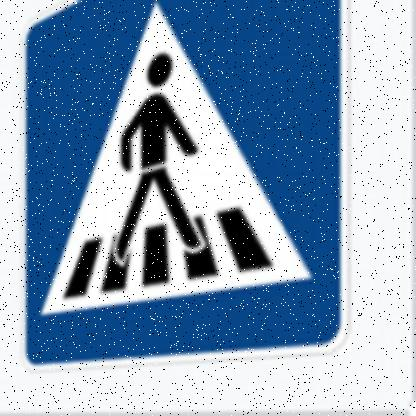Pedestrian Crossing: (20, 1, 353, 365)
